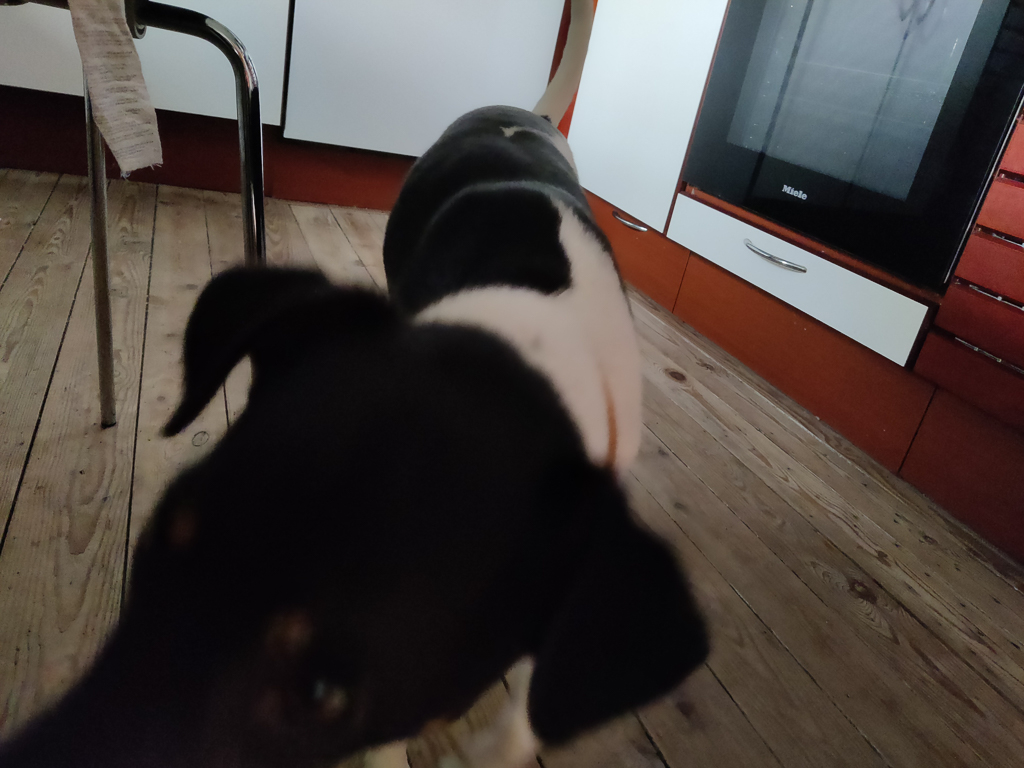Dog: (0, 0, 729, 768)
